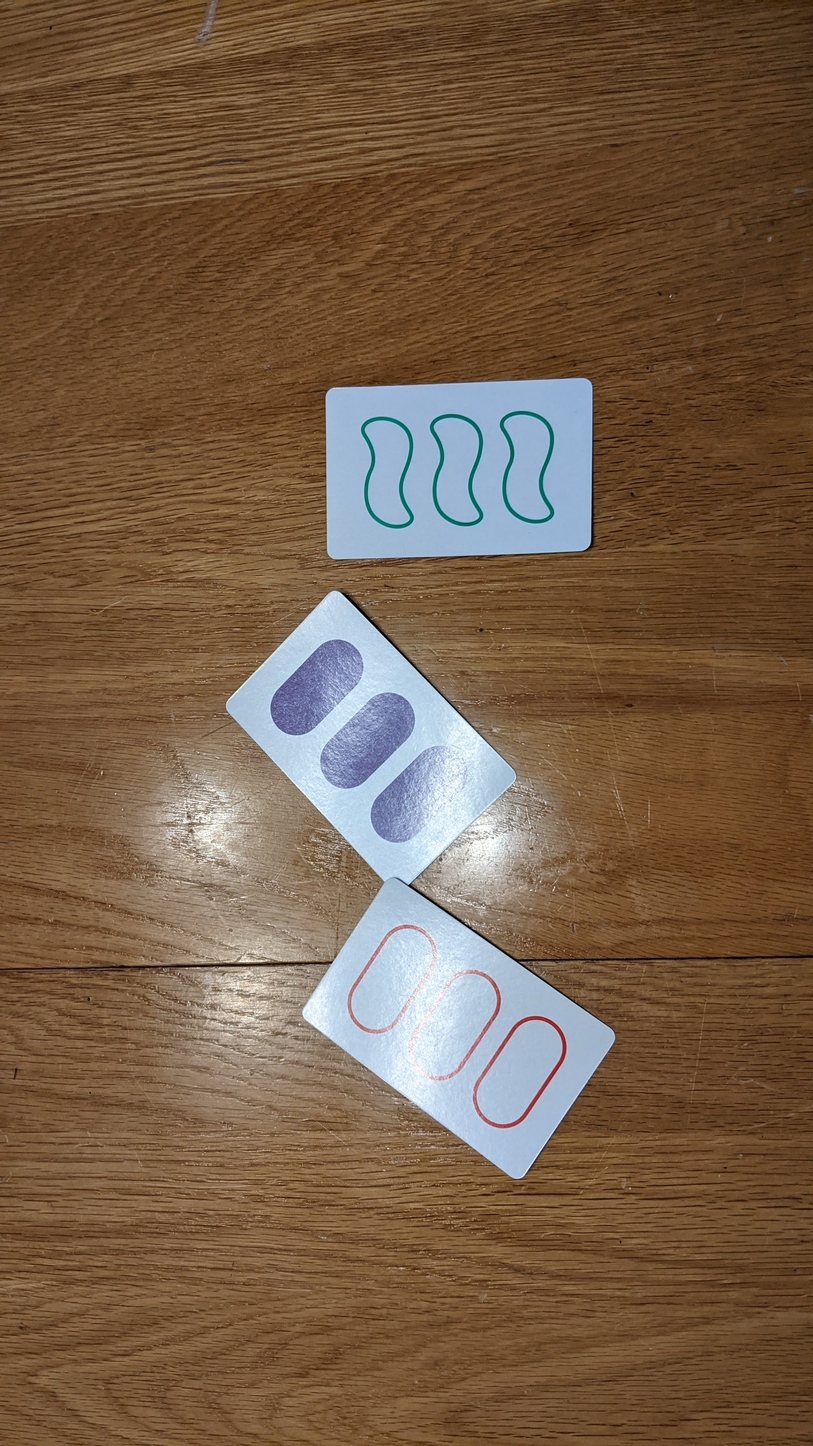card: (303, 878, 615, 1178), (227, 588, 518, 891), (324, 379, 593, 557)
